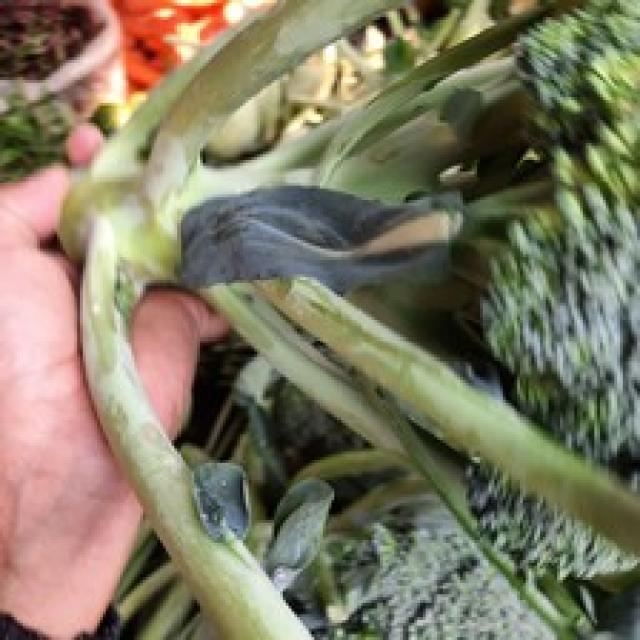Broccoli: (292, 460, 640, 640), (296, 460, 640, 640), (235, 360, 348, 548), (235, 361, 345, 538)
